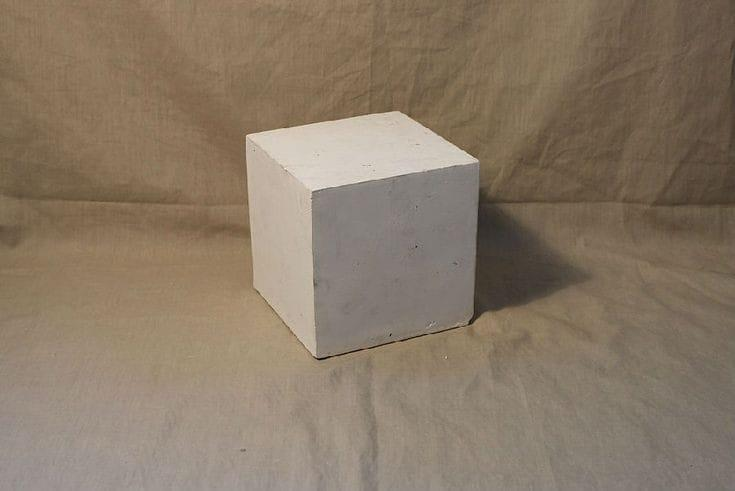cubos: (232, 104, 495, 361)
